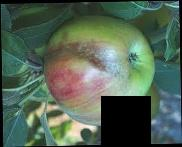rotten apple: (38, 15, 156, 127)
